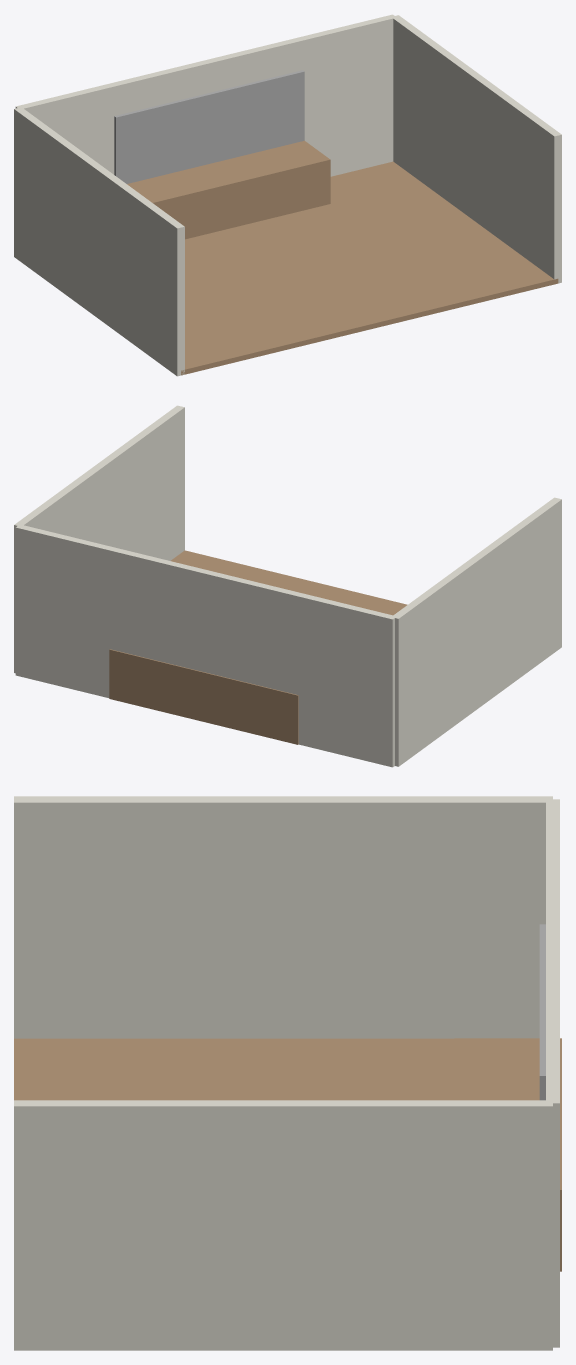
Rendered from maintenance_shop.glb.
3 renders of one model, top to bottom at view 1: azimuth 30°, elevation 25°; view 2: azimuth 150°, elevation 25°; view 3: azimuth 270°, elevation 25°, orthographic. The views are drawn at different scales.
Parts seen in each view (by area): view 1: floor, left, right, back, toolwall, bench; view 2: back, left, right, bench, floor; view 3: right, left, floor, back, bench, toolwall.
Boxes of the visible parts, <box> form: floor: <box>181,161,558,375</box>; left: <box>14,107,184,376</box>; right: <box>392,15,561,283</box>; back: <box>15,14,396,176</box>; toolwall: <box>114,70,304,183</box>; bench: <box>127,140,330,239</box>; back: <box>15,524,396,767</box>; left: <box>392,497,561,766</box>; right: <box>14,405,184,673</box>; bench: <box>109,649,298,744</box>; floor: <box>171,550,407,615</box>; right: <box>14,1100,552,1350</box>; left: <box>14,796,552,1038</box>; floor: <box>14,1038,454,1100</box>; back: <box>546,799,559,1347</box>; bench: <box>454,1038,561,1271</box>; toolwall: <box>539,924,545,1100</box>.
Size of the model in its own units: 8.16 by 3 by 6.1.
